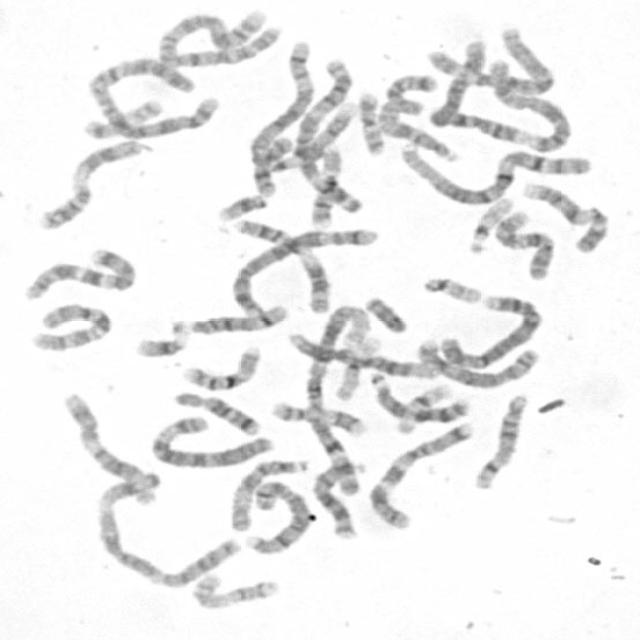A1: (300, 297, 377, 498), (396, 138, 592, 206)
A2: (82, 51, 220, 140), (152, 5, 278, 69)
A3: (89, 473, 239, 590), (284, 48, 362, 218)
B4: (434, 42, 554, 150), (431, 289, 546, 370)
B5: (228, 220, 382, 316), (245, 36, 318, 198)
C10: (489, 204, 559, 282), (25, 299, 115, 353)
C11: (32, 136, 148, 232), (230, 215, 336, 315)
C12: (56, 387, 162, 507), (282, 326, 444, 380)
C6: (419, 27, 556, 95), (144, 410, 276, 470)
C7: (364, 415, 480, 532), (18, 244, 140, 302)
C8: (412, 335, 542, 390), (242, 476, 314, 556)
C9: (252, 100, 360, 172), (517, 178, 612, 255)
D13: (365, 368, 471, 424), (308, 455, 368, 541)
D14: (468, 388, 534, 491), (173, 299, 292, 337)
D15: (225, 453, 311, 533), (371, 99, 463, 162)
E16: (175, 340, 264, 391), (306, 144, 346, 229)
E17: (266, 395, 371, 439), (185, 568, 283, 611)
E18: (169, 386, 263, 437), (378, 69, 439, 117)
F19: (332, 331, 385, 402), (394, 380, 454, 435)
F20: (80, 94, 166, 141), (355, 87, 388, 157)
G21: (130, 315, 191, 360), (212, 189, 269, 222)
G22: (463, 193, 516, 255), (418, 272, 483, 304)
X: (492, 60, 569, 154)
Y: (360, 292, 410, 334)
